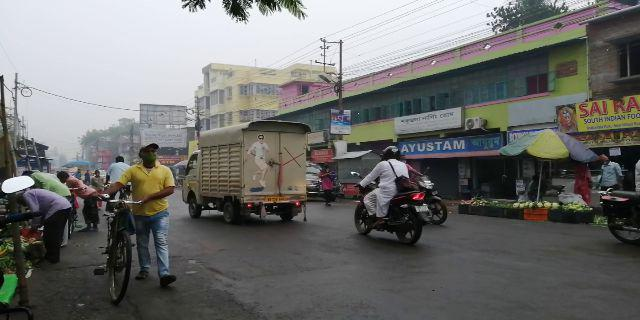Cycle: (97, 192, 146, 301)
Minitruck: (184, 122, 311, 225)
Motorbike: (345, 151, 431, 240)
